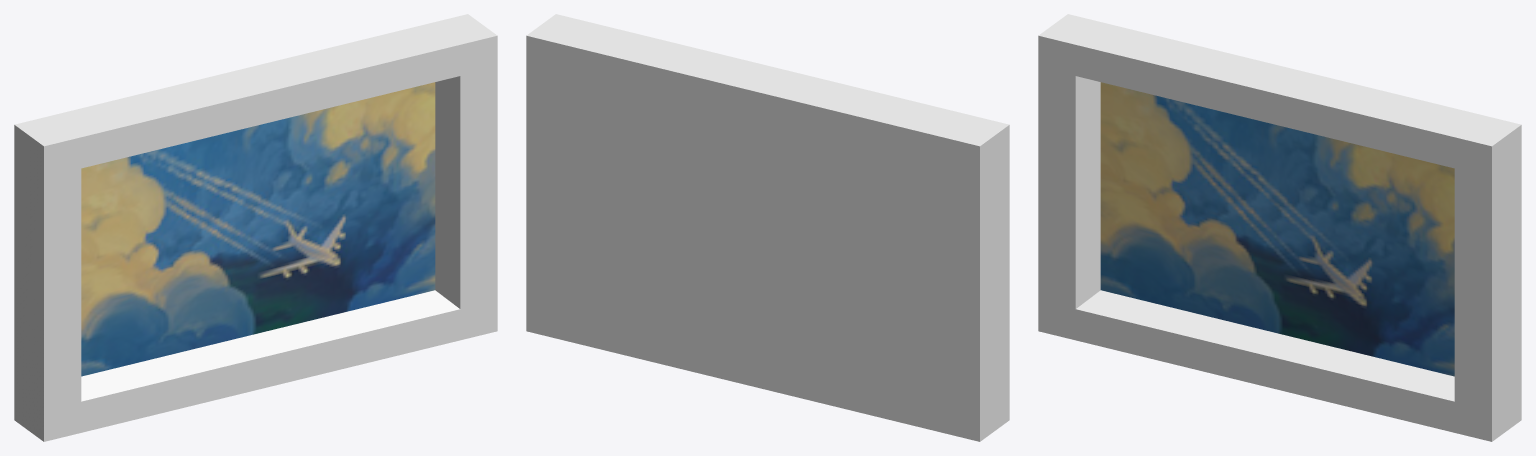
The model's file is photo.fbx.
3 views of the same model, side by side, from view 1: azimuth 30°, elevation 25°; view 2: azimuth 150°, elevation 25°; view 3: azimuth 330°, elevation 25° (orthographic).
Parts seen in each view (by area): view 1: Box065; view 2: Box065; view 3: Box065.
Part boxes in pixels (x1,y1,x2,y2): Box065: (14, 14, 497, 441); Box065: (526, 14, 1009, 441); Box065: (1038, 14, 1521, 441).
Size of the model in its own units: 57.83 by 36.01 by 6.55.
